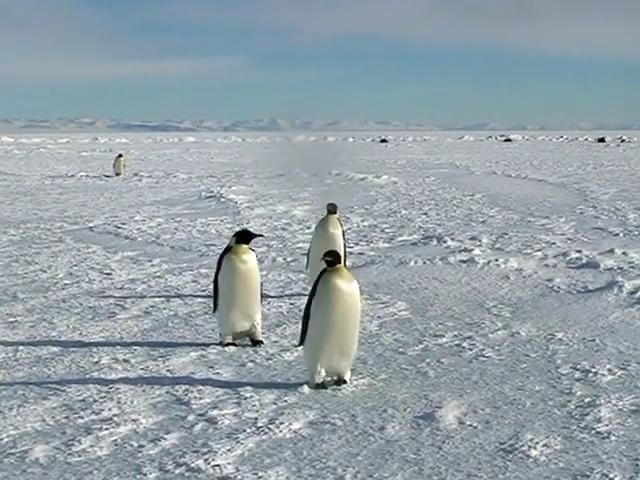animal: (307, 204, 347, 275)
